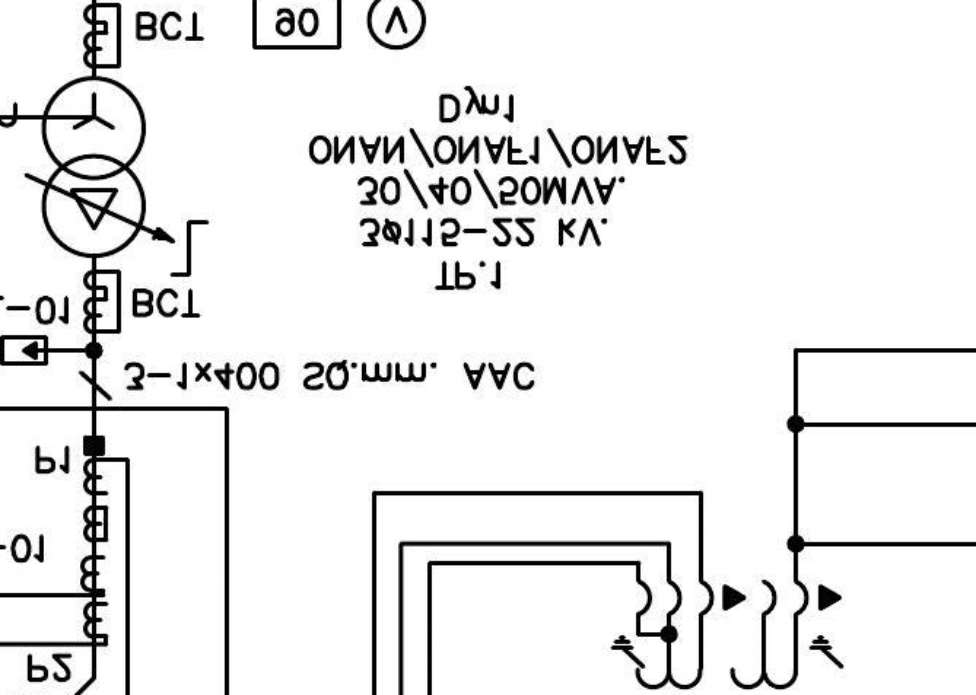11522_tx_dyn1: (40, 75, 147, 259)
